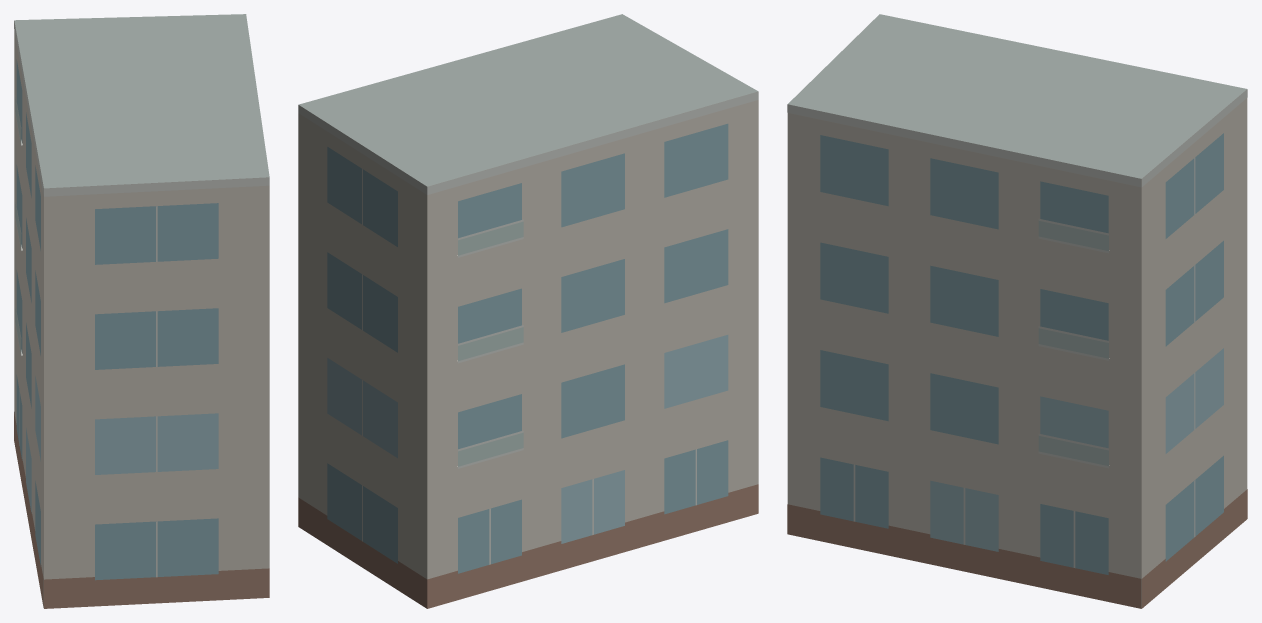
The model's file is survey-upis-32727862.glb.
3 renders of one model, left to right at view 1: azimuth 30°, elevation 25°; view 2: azimuth 150°, elevation 25°; view 3: azimuth 270°, elevation 25°, orthographic. The views are drawn at different scales.
Parts seen in each view (by area): view 1: survey-upis-32727862.tmp; view 2: survey-upis-32727862.tmp; view 3: survey-upis-32727862.tmp.
Part boxes in pixels (x1,y1,x2,y2): survey-upis-32727862.tmp: [14, 14, 269, 608]; survey-upis-32727862.tmp: [298, 14, 758, 608]; survey-upis-32727862.tmp: [787, 14, 1247, 608].
Size of the model in its own units: 10.08 by 12.25 by 11.88.
